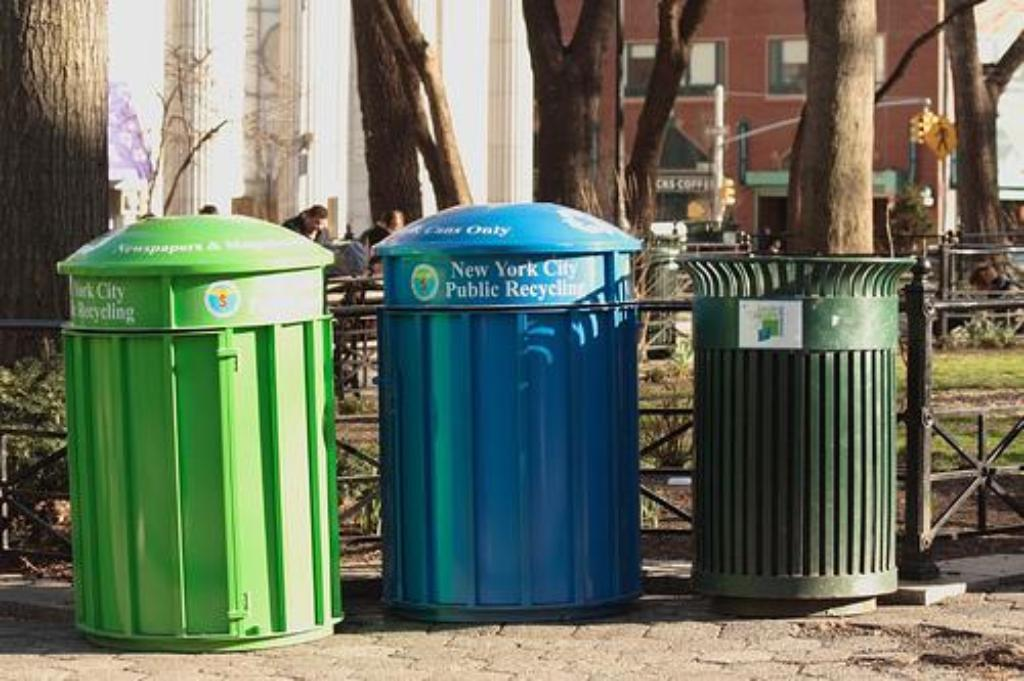dustbin: (50, 214, 355, 654), (366, 197, 662, 620)
